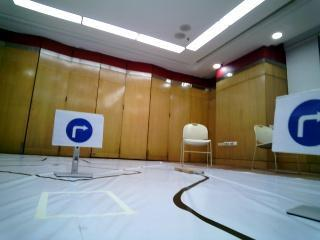right: (272, 95, 320, 152), (60, 105, 105, 146)
